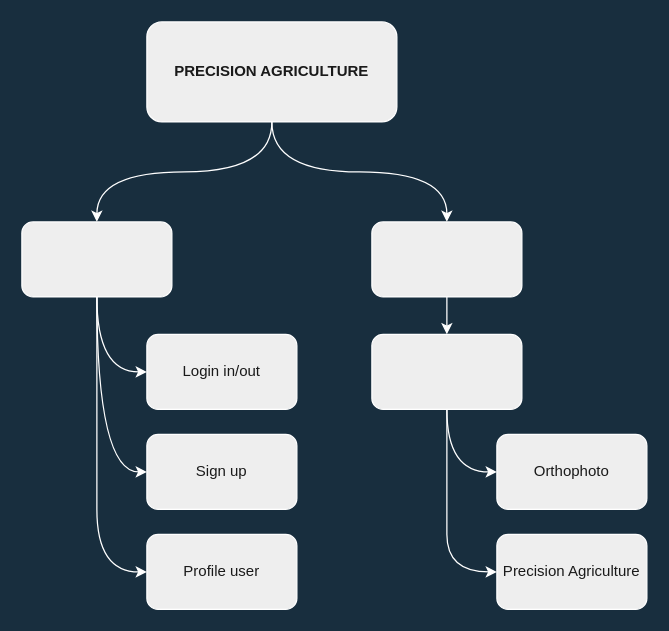
This 669x631 diagram has some shape labels left out. The shapes that lost their labels are listed below. From the top down, each one's centre as x and y in pixels, then its label:
the point at 96,259: Manager User
the point at 446,259: Manager Project
the point at 446,371: Task
